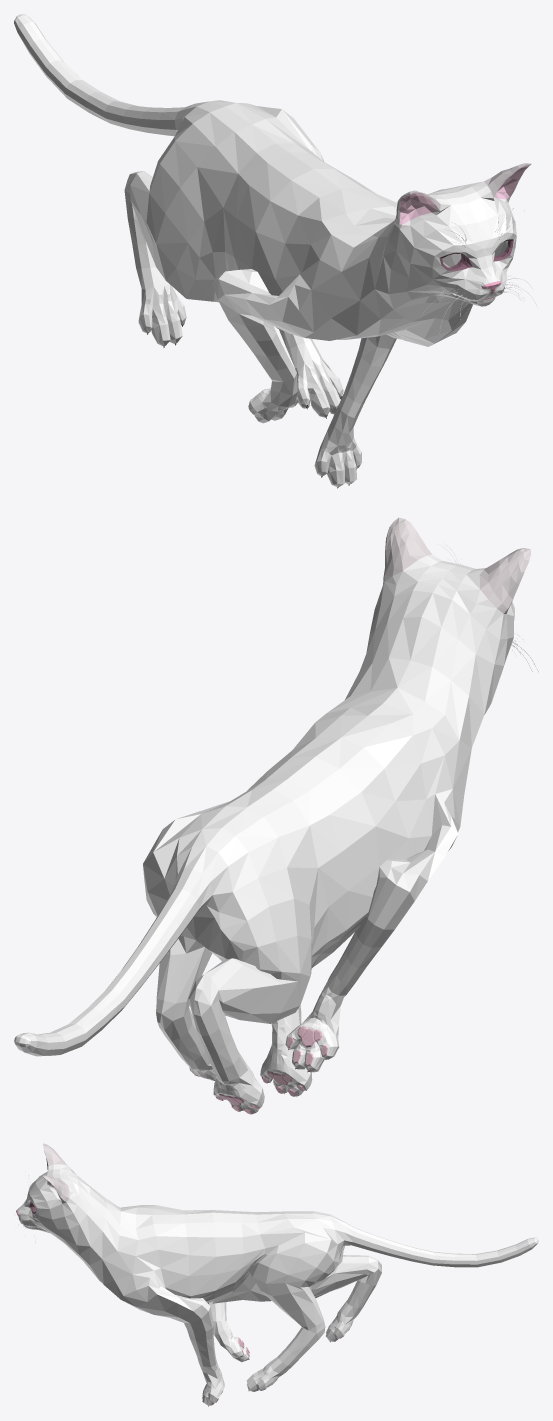
File: Run_F_07.glb
3 views of the same model, one above another, from view 1: azimuth 30°, elevation 25°; view 2: azimuth 150°, elevation 25°; view 3: azimuth 270°, elevation 25° (orthographic). The views are drawn at different scales.
Visible parts, largest first — view 1: Run_F_07; view 2: Run_F_07; view 3: Run_F_07.
Part boxes in pixels (box(x1,y1,x2,y2)): Run_F_07: box(14, 14, 536, 488); Run_F_07: box(14, 517, 538, 1114); Run_F_07: box(16, 1143, 538, 1406).
Size of the model in its own units: 0.1802 by 0.3868 by 0.7665.
Materials: 1 (1 with a texture image).
